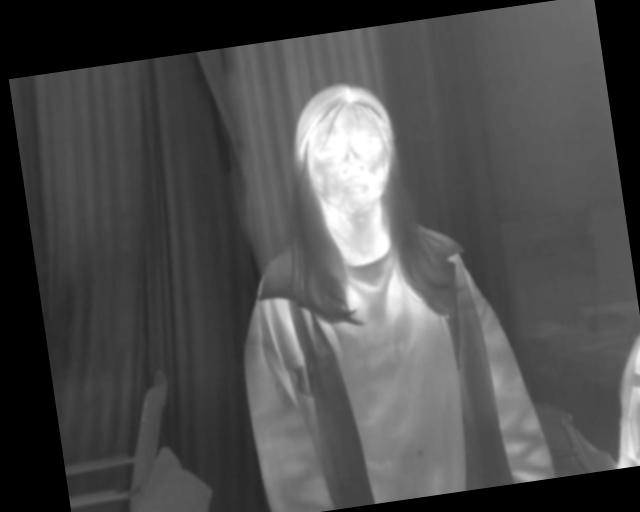face: (287, 77, 400, 222)
